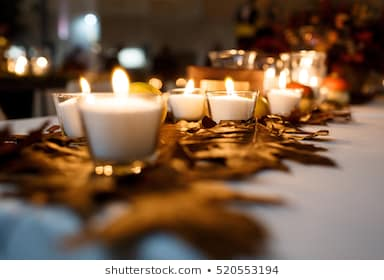Fire: (111, 66, 131, 101), (76, 76, 92, 94), (222, 77, 234, 98), (183, 77, 194, 95), (279, 70, 288, 90)
